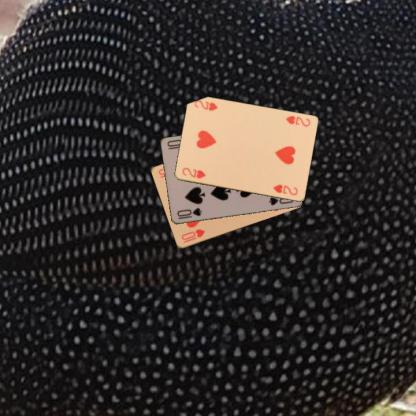10h: (179, 226, 206, 245)
10s: (174, 205, 203, 221)
2h: (283, 113, 312, 128), (179, 165, 206, 180)
